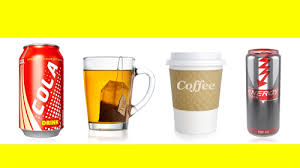can: (16, 42, 67, 140), (245, 49, 281, 137)
